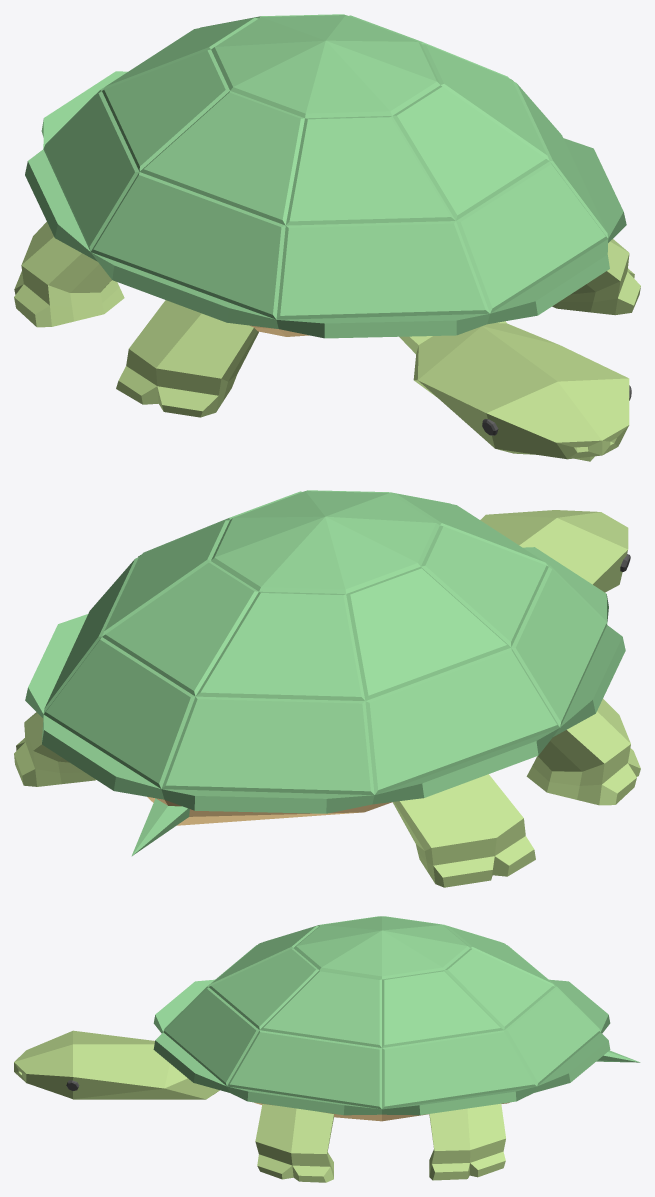
The model's file is Turtle_01.gltf.
3 views of the same model, one above another, from view 1: azimuth 30°, elevation 25°; view 2: azimuth 150°, elevation 25°; view 3: azimuth 270°, elevation 25° (orthographic). The views are drawn at different scales.
Parts seen in each view (by area): view 1: node-0; view 2: node-0; view 3: node-0.
Boxes of the visible parts, x1,y1,x2,y2 form: node-0: (14, 14, 640, 461); node-0: (14, 490, 640, 887); node-0: (14, 916, 640, 1182).
Size of the model in its own units: 8.94 by 4.4 by 14.6.
